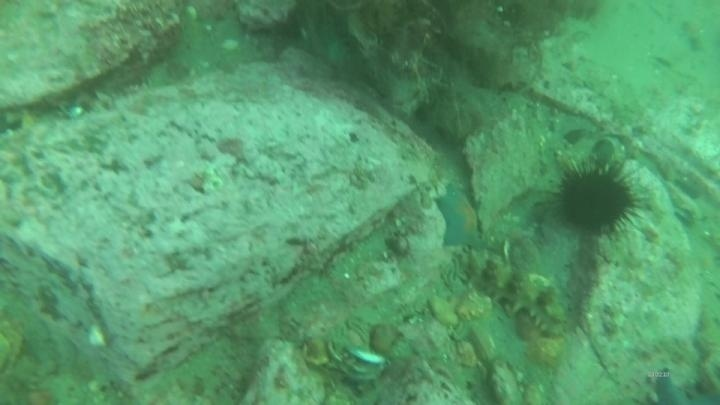echinus: (552, 161, 641, 238)
holothurian: (478, 258, 572, 340)
starfish: (431, 184, 487, 252)
